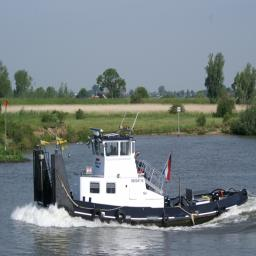tugboat: (31, 110, 251, 238)
